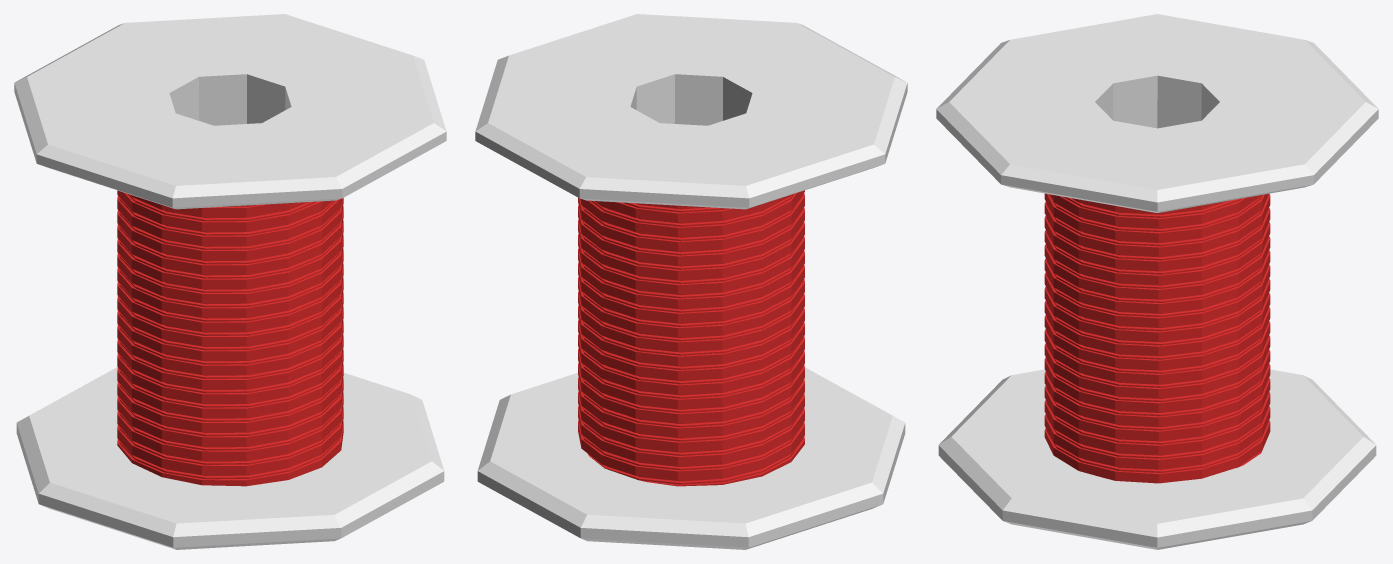
Rendered from maurerschnur als objekt.fbx.
3 renders of one model, left to right at view 1: azimuth 30°, elevation 25°; view 2: azimuth 150°, elevation 25°; view 3: azimuth 270°, elevation 25°, orthographic.
Visible parts, largest first — view 1: base, thread.004; view 2: base, thread.004; view 3: base, thread.004.
Part boxes in pixels (box(x1,y1,x2,y2)): base: box(14, 14, 446, 549); thread.004: box(117, 190, 343, 486); base: box(475, 14, 907, 549); thread.004: box(578, 190, 804, 486); base: box(936, 14, 1378, 549); thread.004: box(1044, 193, 1270, 483).
Size of the model in its own units: 170 by 153 by 170.
